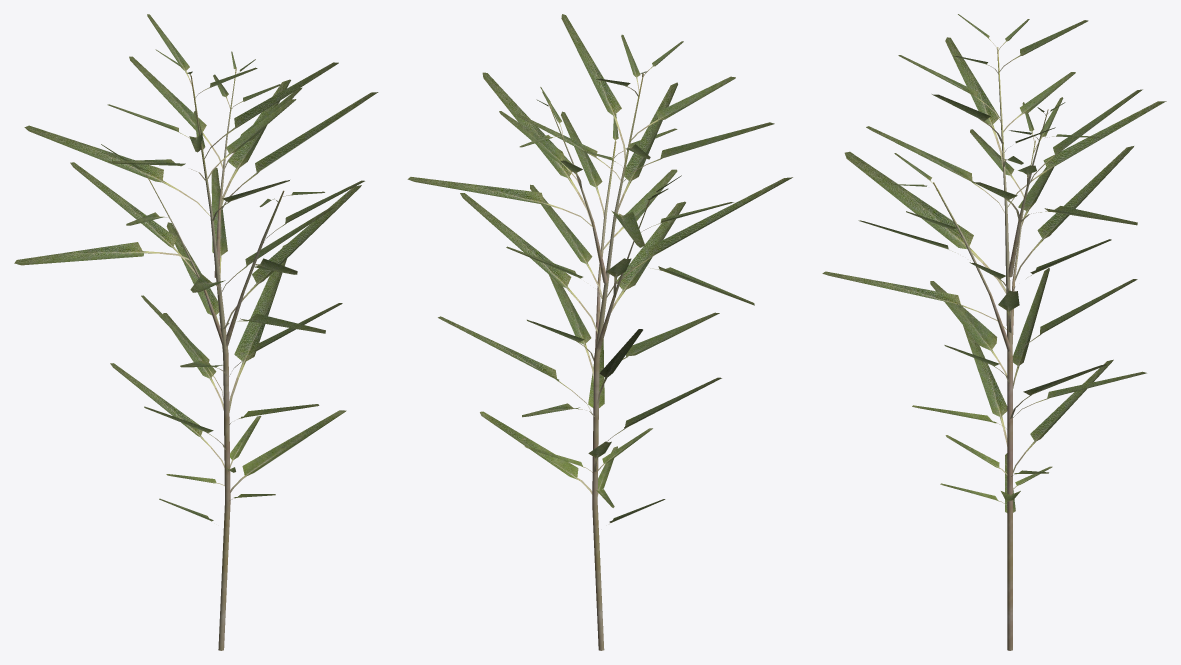
The model's file is Sage1.fbx.
3 renders of one model, left to right at view 1: azimuth 30°, elevation 25°; view 2: azimuth 150°, elevation 25°; view 3: azimuth 270°, elevation 25°, orthographic.
Parts seen in each view (by area): view 1: Sage1; view 2: Sage1; view 3: Sage1.
Boxes of the visible parts, x1,y1,x2,y2 form: Sage1: (14, 14, 378, 650); Sage1: (407, 14, 792, 650); Sage1: (822, 14, 1166, 650).
Size of the model in its own units: 39.58 by 71.91 by 36.69.
